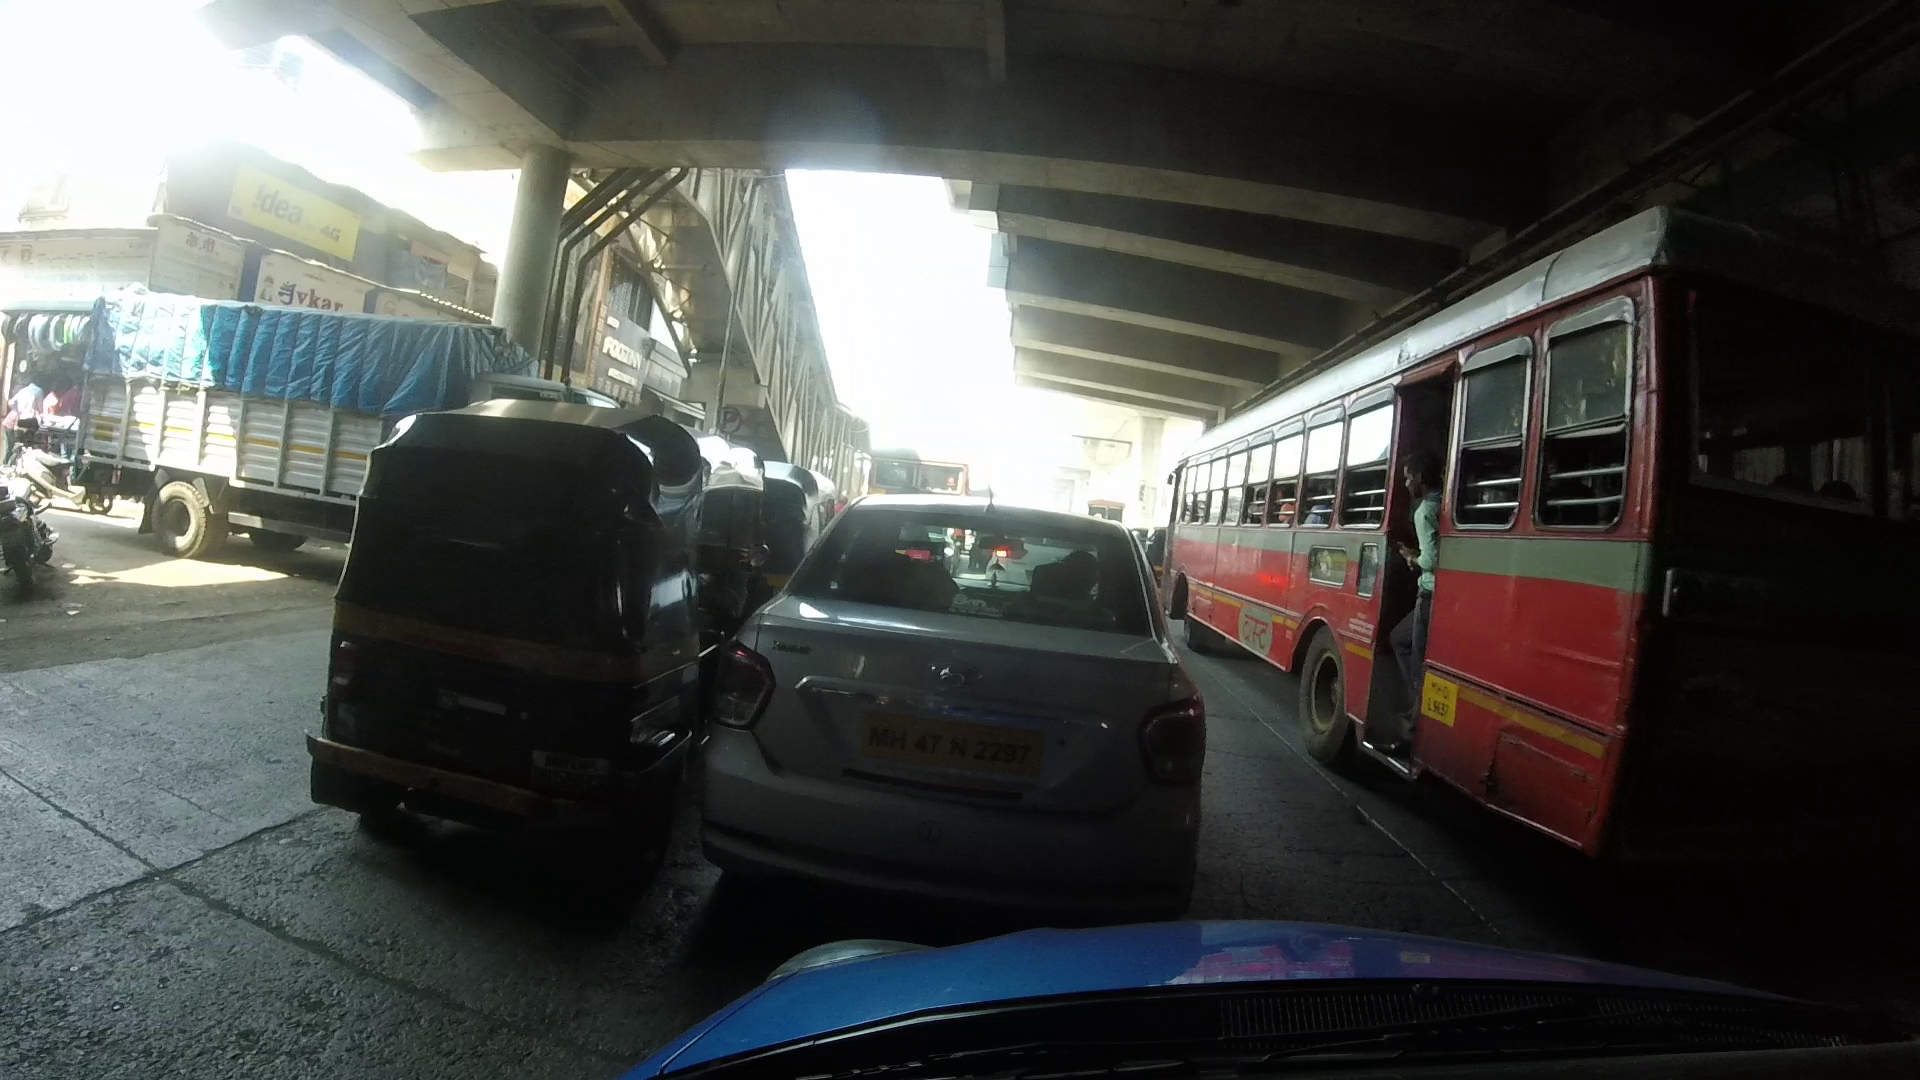bus: (1158, 182, 1892, 889)
car: (723, 462, 1207, 913)
rickshaw: (316, 384, 713, 880)
truck: (69, 282, 491, 550)
